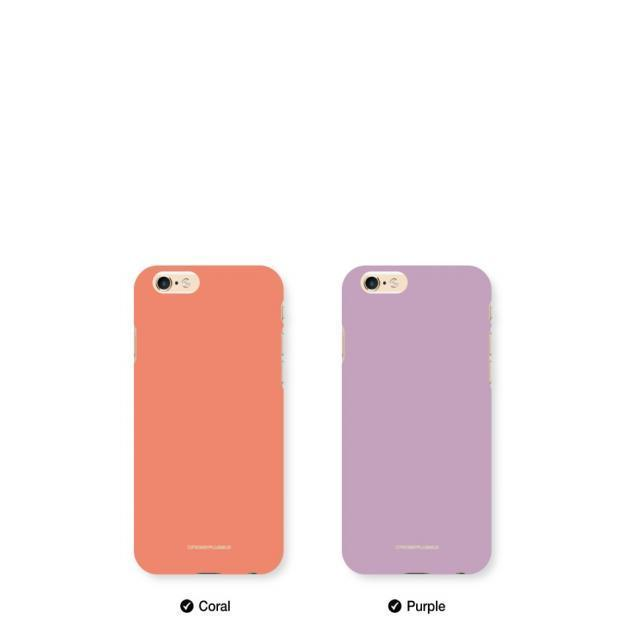phone: (338, 264, 494, 576), (132, 266, 284, 575)
